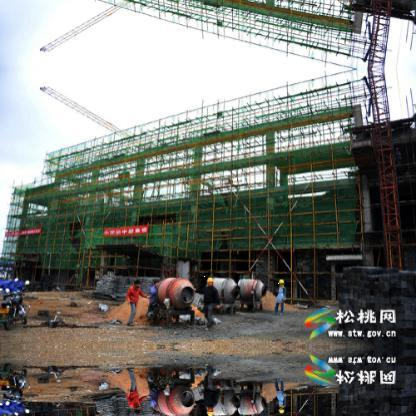safetyhelmet: (203, 274, 215, 284), (278, 280, 285, 288)
